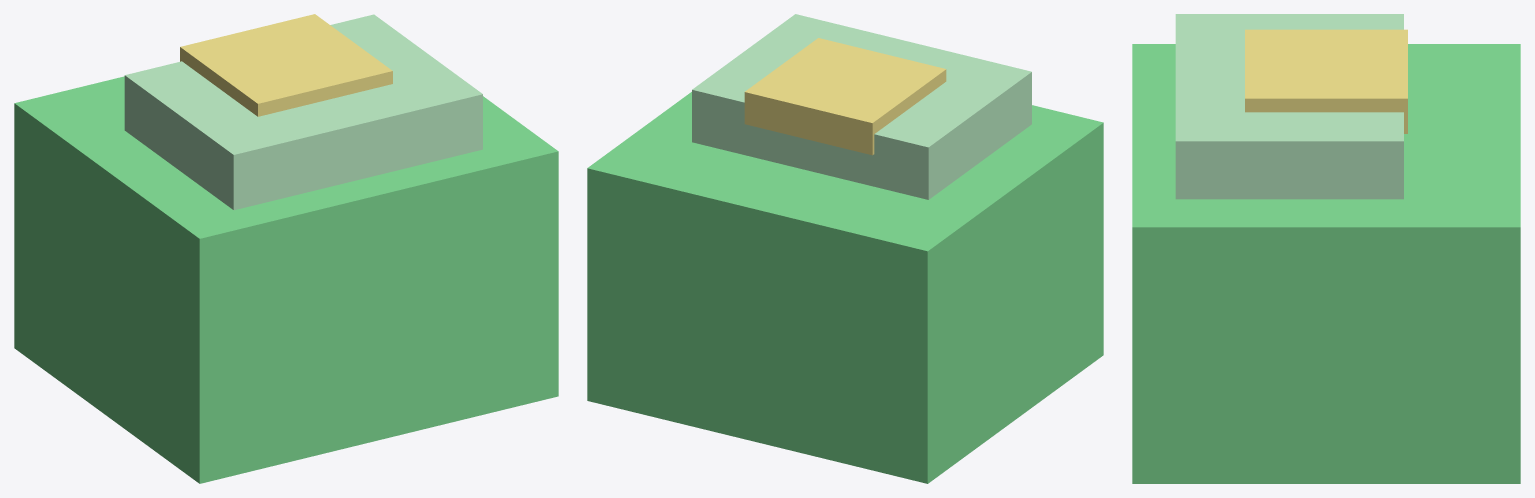
File: hoard_fiend.gltf
3 renders of one model, left to right at view 1: azimuth 30°, elevation 25°; view 2: azimuth 150°, elevation 25°; view 3: azimuth 270°, elevation 25°, orthographic. The views are drawn at different scales.
Parts seen in each view (by area): view 1: blob, dome, crown; view 2: blob, dome, crown; view 3: blob, dome, crown.
Part boxes in pixels (<box>): blob: <box>14,76,558,483</box>; dome: <box>124,14,482,210</box>; crown: <box>180,14,392,116</box>; blob: <box>587,92,1103,483</box>; dome: <box>692,14,1031,199</box>; crown: <box>744,38,946,155</box>; blob: <box>1132,44,1520,483</box>; dome: <box>1175,14,1403,199</box>; crown: <box>1245,29,1407,133</box>.
Size of the model in its own units: 1.33 by 1.11 by 1.19.
